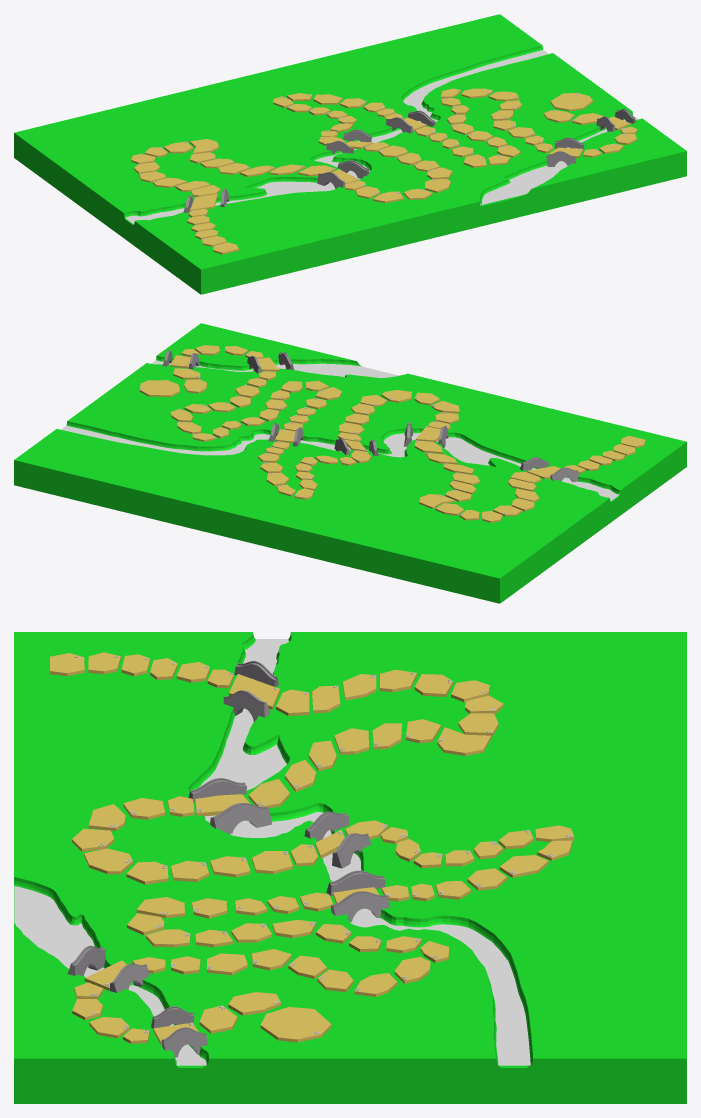
File: MapaFinalV4.glb
3 renders of one model, top to bottom at view 1: azimuth 30°, elevation 25°; view 2: azimuth 150°, elevation 25°; view 3: azimuth 270°, elevation 25°, orthographic. The views are drawn at different scales.
Parts seen in each view (by area): view 1: TableroBase, Casillas, Plano, BordesRios; view 2: TableroBase, Casillas, Plano, BordesRios; view 3: TableroBase, Casillas, Plano, BordesRios, Puente2P1, Puente4P2, Puente4P1, Puente6P2, Puente1P1, Puente2P2, Puente3P2, Puente3P1 (+2 smaller).
Part boxes in pixels (<box>): TableroBase: <box>14,14,686,294</box>; Casillas: <box>131,88,637,254</box>; Plano: <box>125,50,637,224</box>; BordesRios: <box>124,45,633,224</box>; TableroBase: <box>14,323,686,603</box>; Casillas: <box>140,345,645,522</box>; Plano: <box>61,360,619,500</box>; BordesRios: <box>66,356,620,501</box>; TableroBase: <box>14,632,686,1103</box>; Casillas: <box>50,652,574,1044</box>; Plano: <box>14,639,530,1065</box>; BordesRios: <box>14,632,533,1067</box>; Puente2P1: <box>210,803,272,834</box>; Puente4P2: <box>331,891,390,921</box>; Puente4P1: <box>326,870,385,895</box>; Puente6P2: <box>161,1027,207,1057</box>; Puente1P1: <box>223,690,270,722</box>; Puente2P2: <box>188,778,246,802</box>; Puente3P2: <box>332,833,370,868</box>; Puente3P1: <box>304,811,349,841</box>.
Bounding box in the file's own units: 72 × 5.11 × 48.
